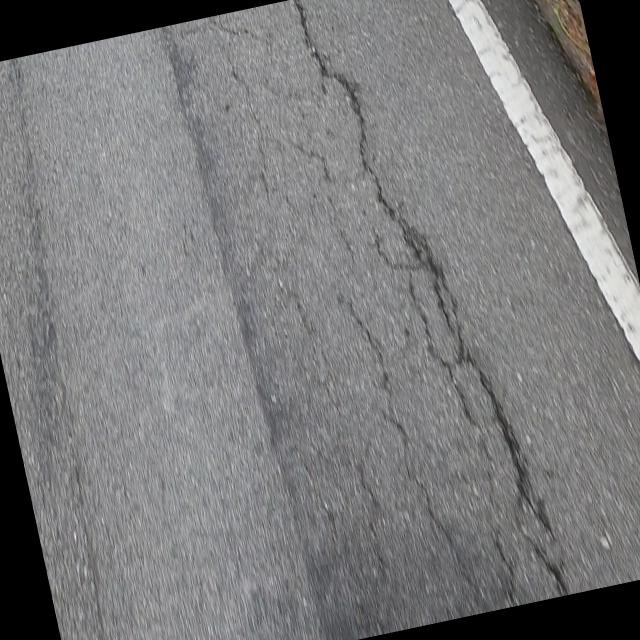Retak-Memanjang: (291, 0, 568, 596), (373, 242, 480, 437)
